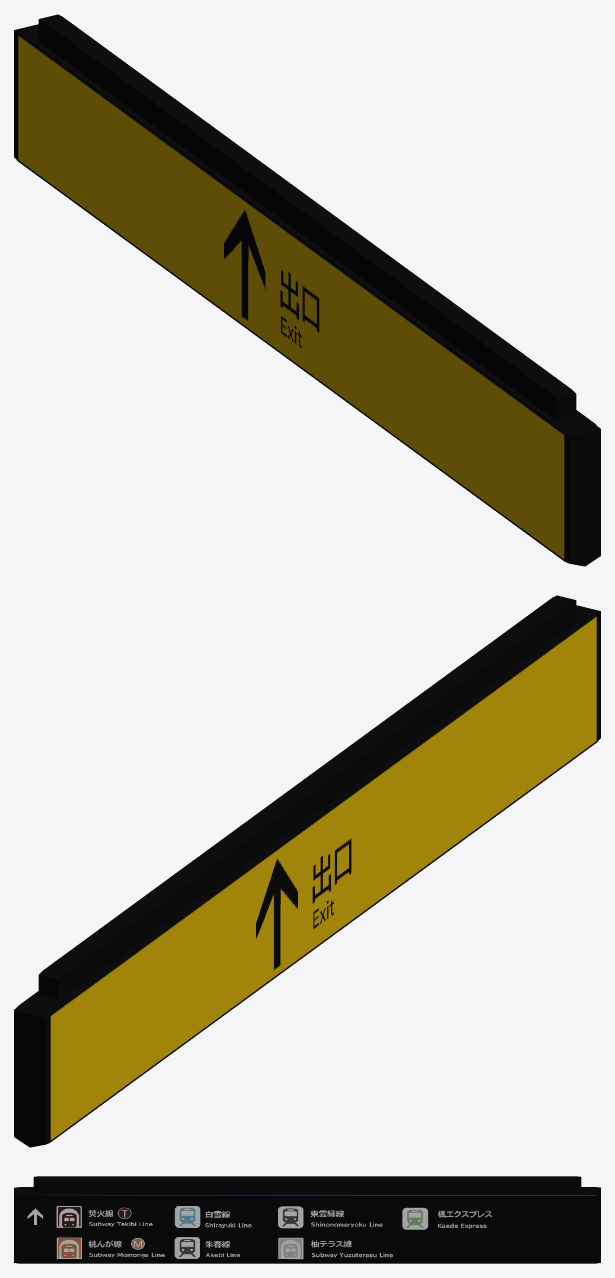
The model's file is panel_sign_normal.fbx.
3 views of the same model, one above another, from view 1: azimuth 30°, elevation 25°; view 2: azimuth 150°, elevation 25°; view 3: azimuth 270°, elevation 25° (orthographic). The views are drawn at different scales.
Visible parts, largest first — view 1: panel_sign; view 2: panel_sign; view 3: panel_sign.
Part boxes in pixels (x1=…): panel_sign: x1=14, y1=14, x2=600, y2=566; panel_sign: x1=14, y1=595, x2=600, y2=1147; panel_sign: x1=14, y1=1176, x2=600, y2=1263.
Bounding box in the file's own units: 17.96 × 85.09 × 536.
1 material, 1 textured.
